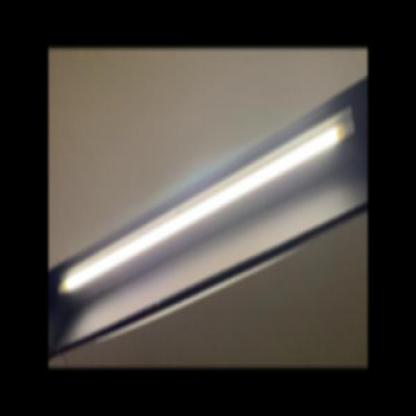light_on: (53, 100, 362, 298)
